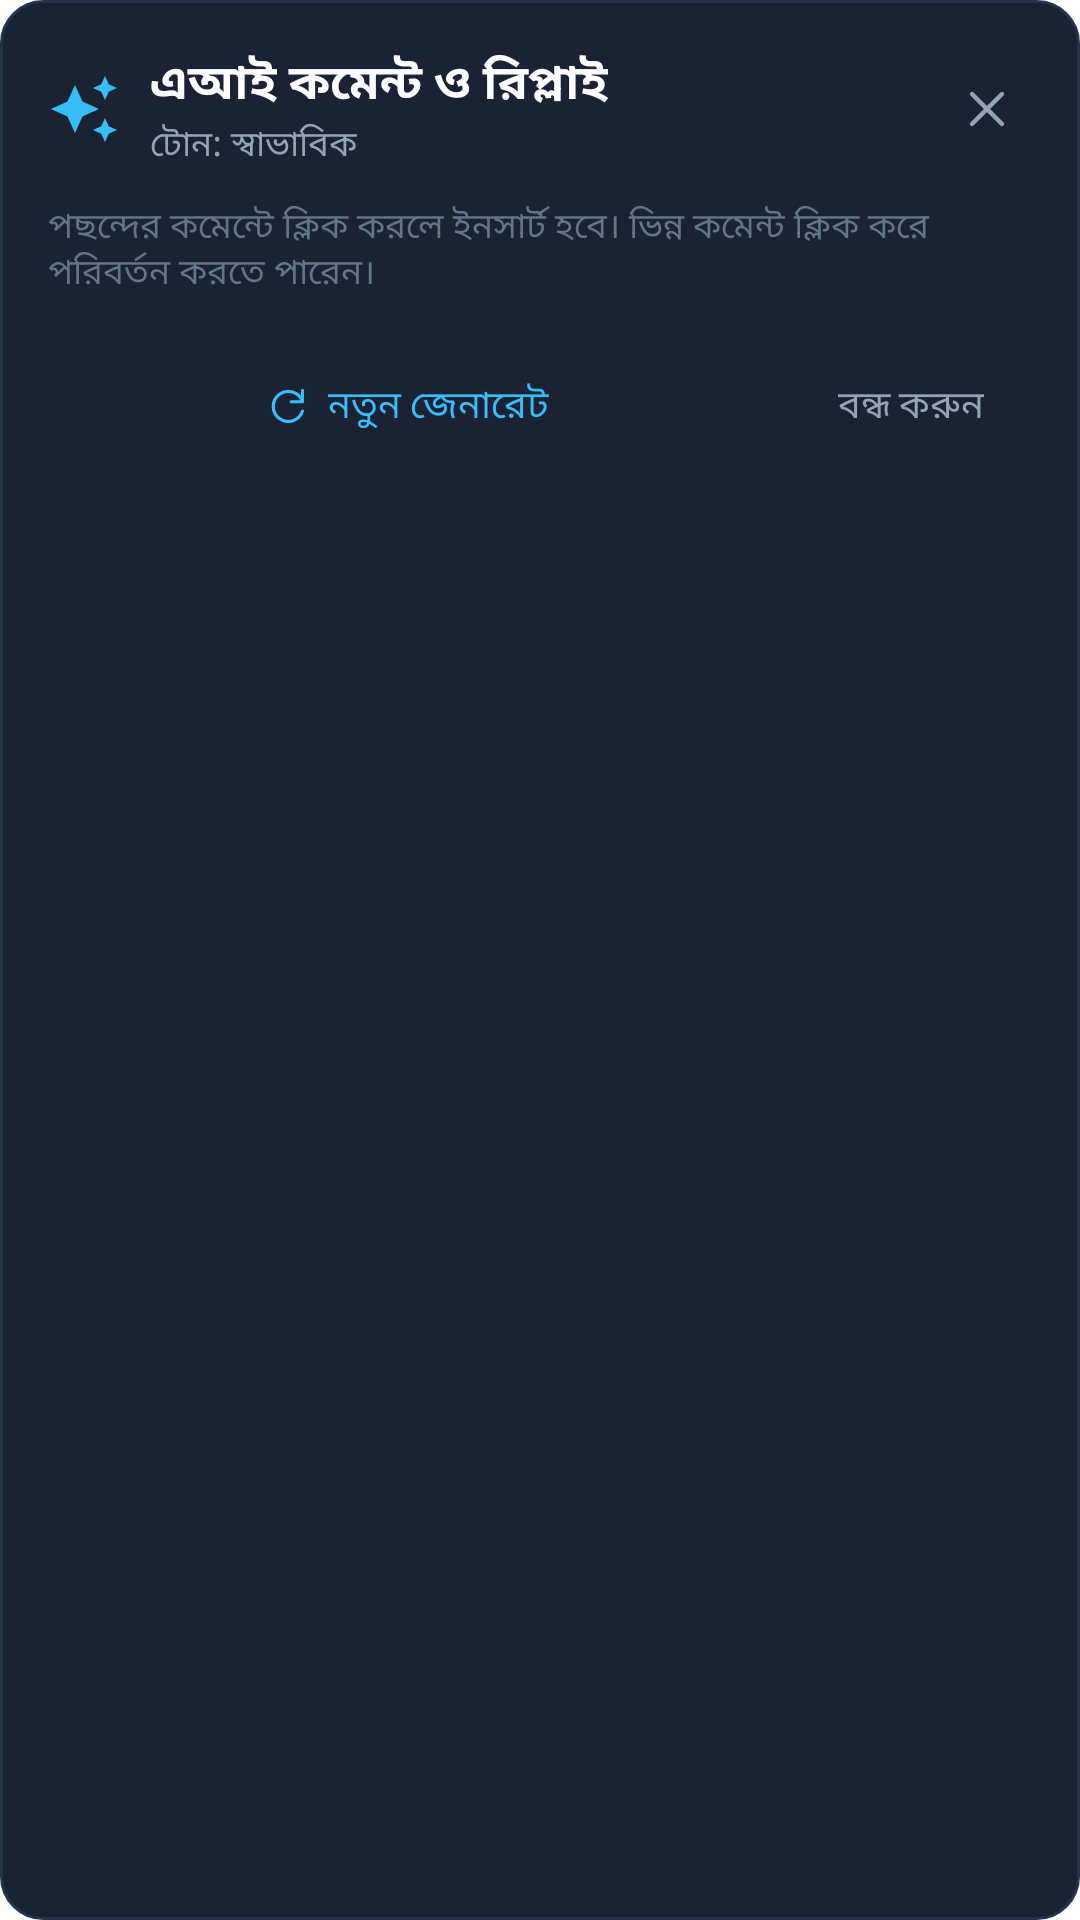

Named icons in this screenshot (1080px×1920px) and their centers, (x,y):
ai refresh: (287,406)
Close: (987,109)
